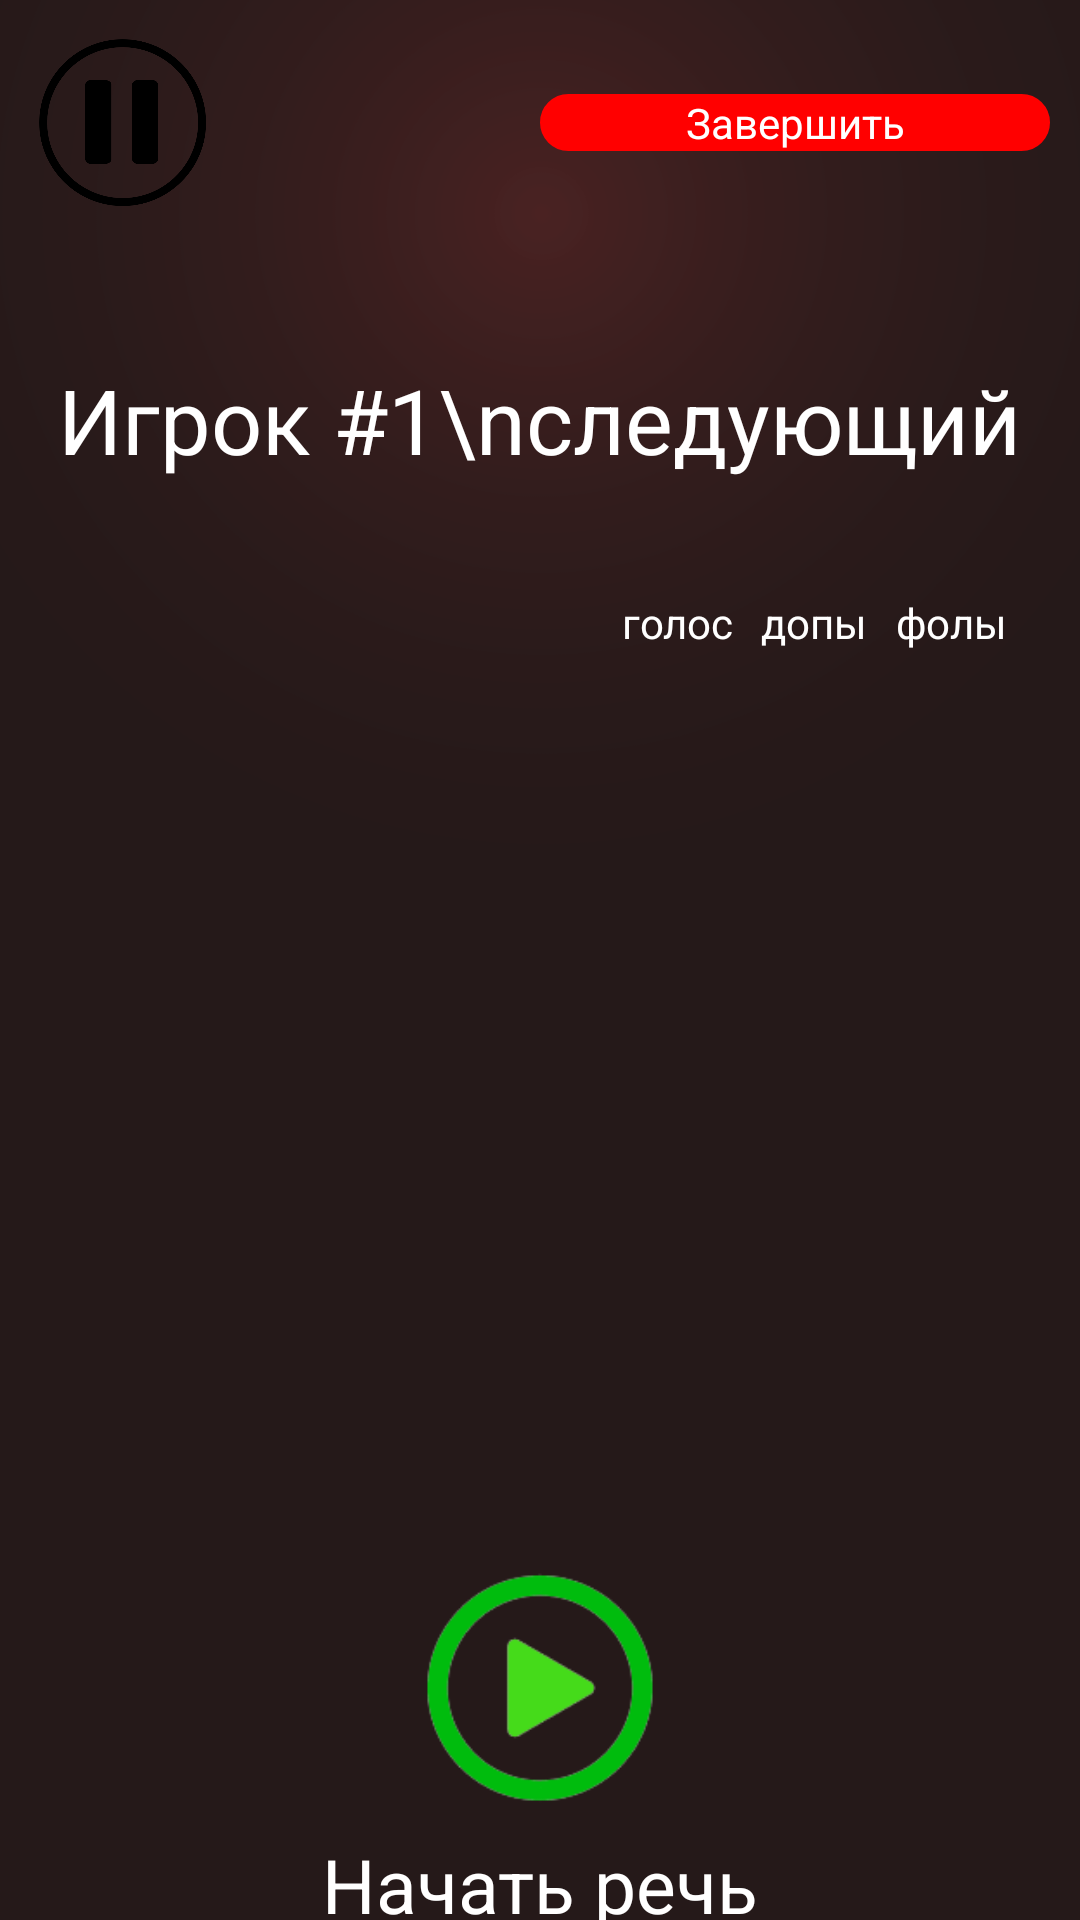

Screen size 1080x1920. Icon name, then its center in pixels as (x=x, y=y):
pause: (x=122, y=122)
start: (x=540, y=1688)
